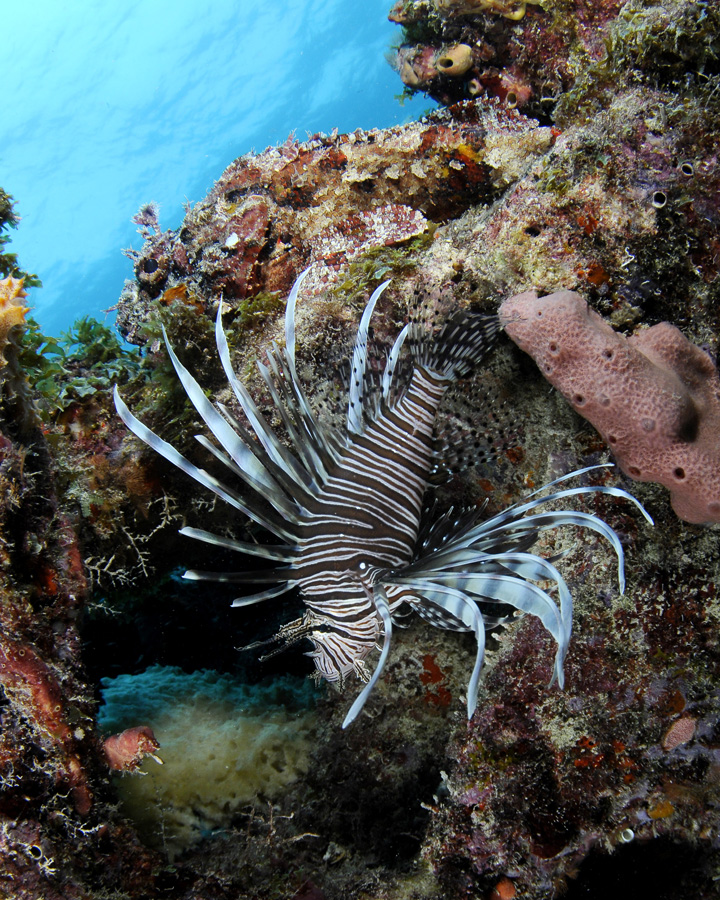Pterois_volitans: (95, 250, 658, 732)
